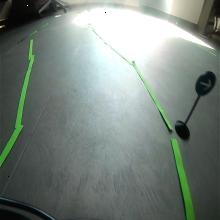right: (194, 71, 217, 97)
